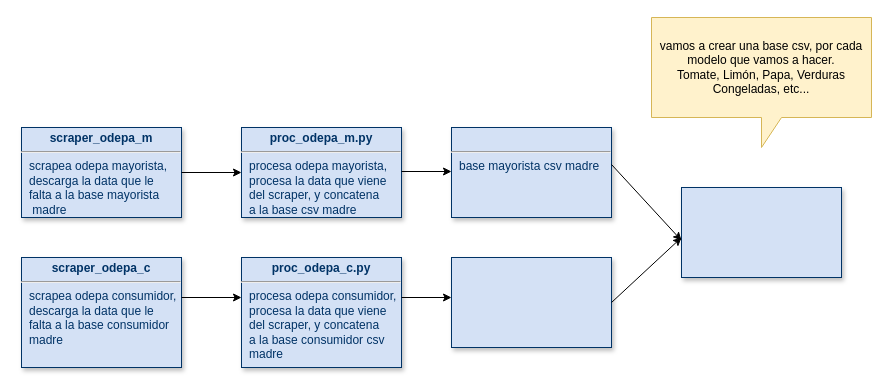
The diagram is 889 pixels wide and 392 high, and some of its shapes have lost their labels. The centre of each missing label's shape, as x and y in pixels:
1 modelo / "producto" script merge bases odepa . en formato input modelos ML: the point at 762,233
bases consumidor csv madre: the point at 532,303
